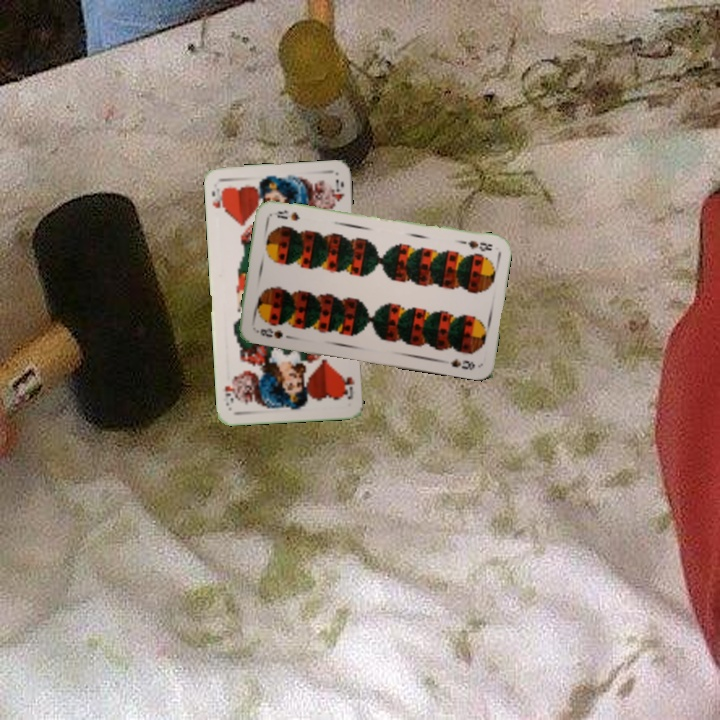HO: (208, 184, 228, 215), (338, 371, 357, 402)
S8: (456, 236, 495, 254), (252, 324, 285, 341)
